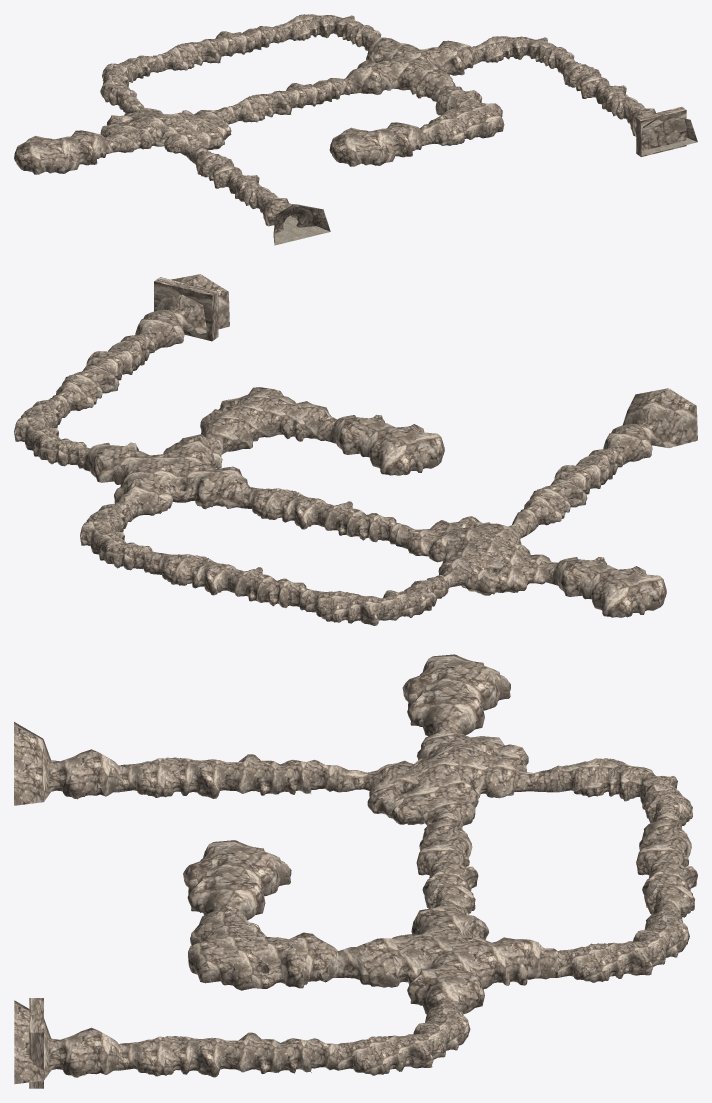
File: testback.FBX
The picture shows the model from 3 angles, top to bottom: view 1: azimuth 30°, elevation 25°; view 2: azimuth 150°, elevation 25°; view 3: azimuth 270°, elevation 25°; orthographic projection. The views are drawn at different scales.
Visible parts, largest first — view 1: Caves_X1_wall, Caves_X2_wall, Caves_L2_wall, Caves_U_wall001, Caves_U_wall, Caves_I_wall002, Caves_I_wall001, Caves_I_wall003, Caves_I_wall, Caves_L_wall, Caves_L_wall001, Box001 (+4 smaller); view 2: Caves_X1_wall, Caves_X2_wall, Caves_L2_wall, Caves_U_wall001, Caves_U_wall, Caves_I_wall002, Caves_I_wall001, Caves_E_wall001, Caves_L_wall002, Caves_I_wall003, Caves_I_wall, Caves_E_wall (+3 smaller); view 3: Caves_X1_wall, Caves_X2_wall, Caves_L2_wall, Caves_I_wall003, Caves_I_wall, Caves_U_wall001, Caves_U_wall, Caves_E_wall001, Caves_L_wall, Caves_L_wall001, Caves_L_wall002, Caves_I_wall002 (+3 smaller).
Boxes of the visible parts, <box> form: Caves_X1_wall: <box>346,36,476,101</box>; Caves_X2_wall: <box>100,96,231,162</box>; Caves_L2_wall: <box>420,86,504,145</box>; Caves_U_wall001: <box>14,130,109,174</box>; Caves_U_wall: <box>329,122,424,166</box>; Caves_I_wall002: <box>156,25,283,71</box>; Caves_I_wall001: <box>227,77,354,123</box>; Caves_I_wall003: <box>193,148,277,213</box>; Caves_I_wall: <box>560,58,644,123</box>; Caves_L_wall: <box>472,36,574,72</box>; Caves_L_wall001: <box>279,14,381,50</box>; Box001: <box>636,107,686,156</box>; Caves_X1_wall: <box>84,434,249,519</box>; Caves_X2_wall: <box>396,511,557,595</box>; Caves_L2_wall: <box>200,387,337,454</box>; Caves_U_wall001: <box>552,557,666,617</box>; Caves_U_wall: <box>330,414,444,475</box>; Caves_I_wall002: <box>150,552,313,611</box>; Caves_I_wall001: <box>240,487,404,545</box>; Caves_E_wall001: <box>603,388,697,464</box>; Caves_L_wall002: <box>306,577,445,625</box>; Caves_I_wall003: <box>520,445,625,529</box>; Caves_I_wall: <box>52,331,157,415</box>; Caves_E_wall: <box>135,274,229,350</box>; Caves_X1_wall: <box>338,902,557,1014</box>; Caves_X2_wall: <box>338,719,557,826</box>; Caves_L2_wall: <box>188,904,338,990</box>; Caves_I_wall003: <box>118,754,338,798</box>; Caves_I_wall: <box>119,1032,338,1077</box>; Caves_U_wall001: <box>402,654,510,736</box>; Caves_U_wall: <box>183,840,291,920</box>; Caves_E_wall001: <box>14,722,118,805</box>; Caves_L_wall: <box>338,998,470,1075</box>; Caves_L_wall001: <box>558,905,689,982</box>; Caves_L_wall002: <box>558,758,692,825</box>; Caves_I_wall002: <box>636,812,697,917</box>.
Size of the model in its own units: 9997 by 7089 by 734.
